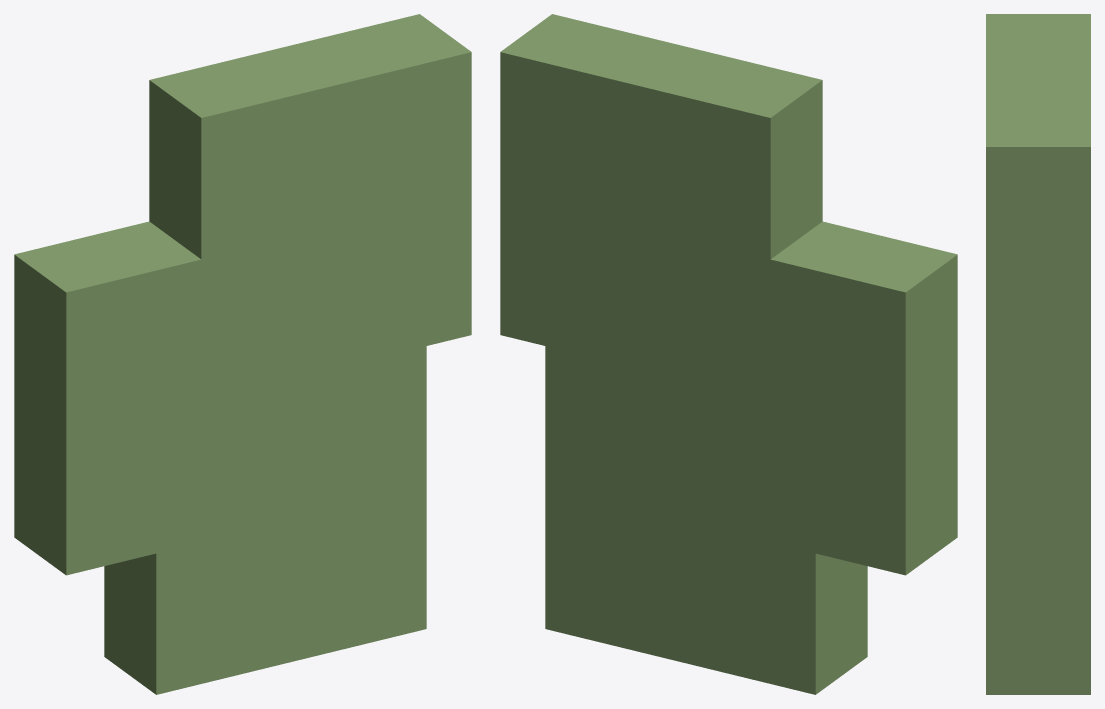
The model's file is chumbera_03.glb.
The picture shows the model from 3 angles, left to right: view 1: azimuth 30°, elevation 25°; view 2: azimuth 150°, elevation 25°; view 3: azimuth 270°, elevation 25°; orthographic projection.
Parts seen in each view (by area): view 1: chumbera_03; view 2: chumbera_03; view 3: chumbera_03.
Part boxes in pixels (left/top/right/bottom): chumbera_03: left=14, top=14, right=471, bottom=694; chumbera_03: left=500, top=14, right=957, bottom=694; chumbera_03: left=986, top=14, right=1090, bottom=694.
Bounding box in the file's own units: 0.9 × 1.2 × 0.2.
